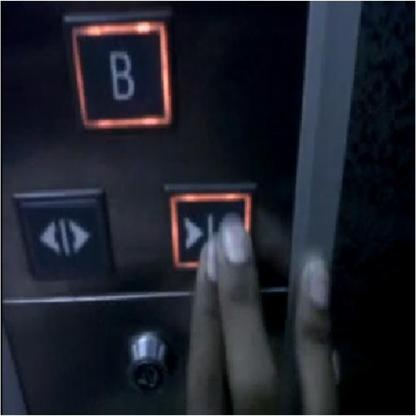B: (57, 7, 179, 138)
keyhole: (123, 328, 172, 397)
open: (9, 182, 116, 281)
